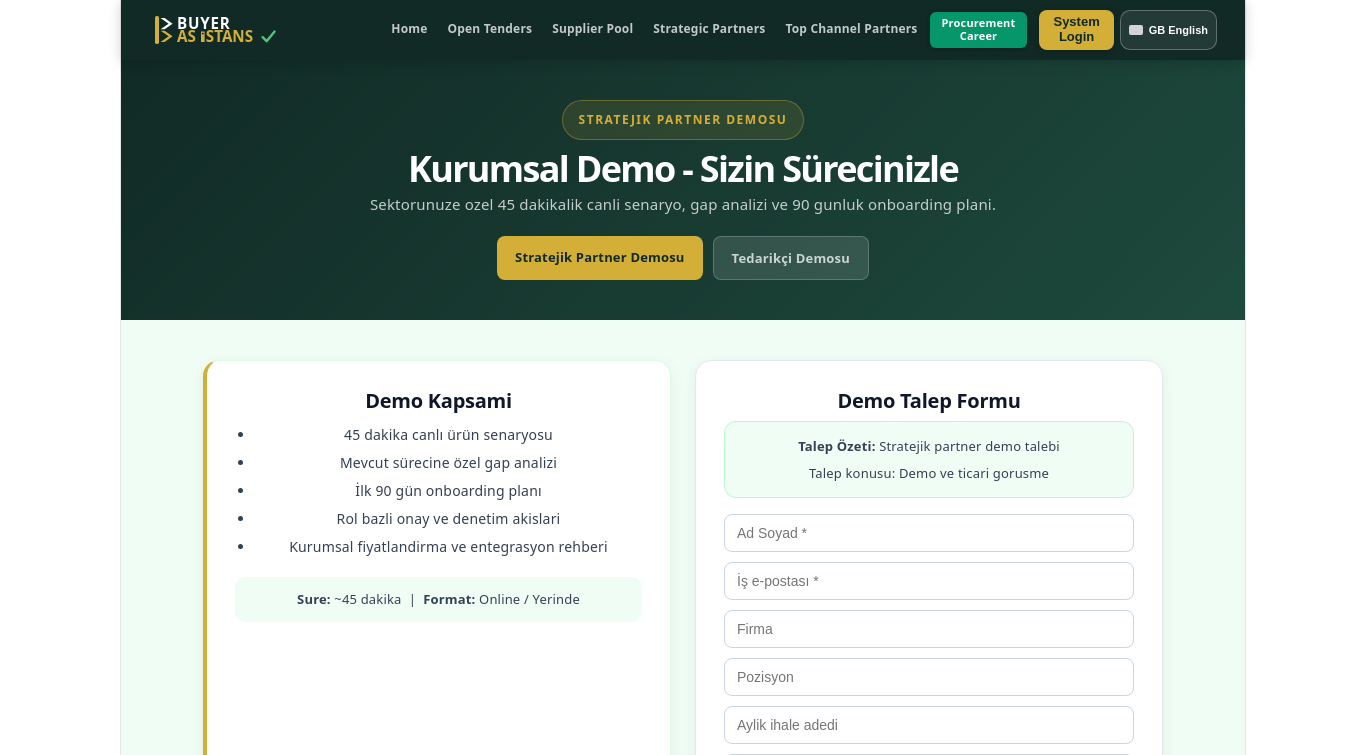
Test case: Public pages › demo talebi formu backend'e ticari talep kaydi gonderir
Type "Ayse Yilmaz" into the field with placeholder "Ad Soyad *" at point(929, 534), box x1=724 y1=514 x2=1134 y2=552
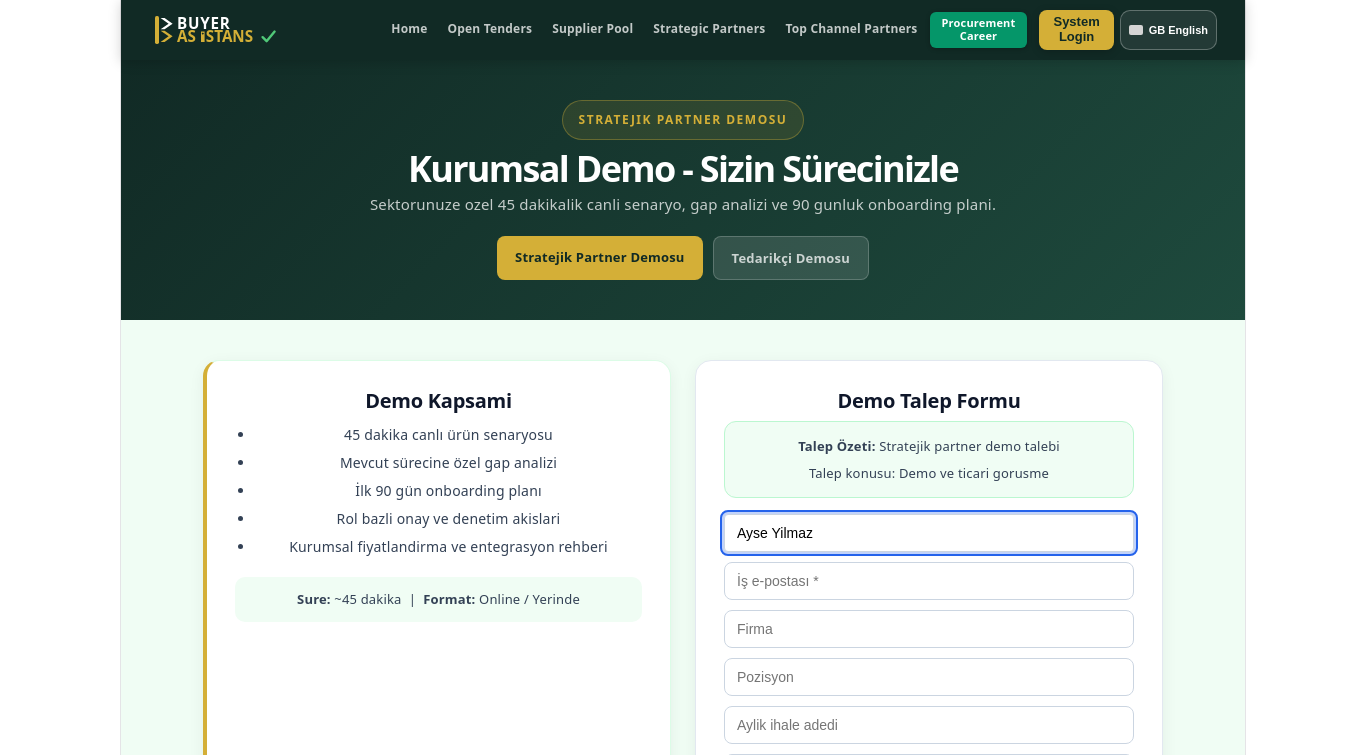
Type "ayse@test.com" into the field with placeholder "İş e-postası *" at point(929, 582), box x1=724 y1=562 x2=1134 y2=600
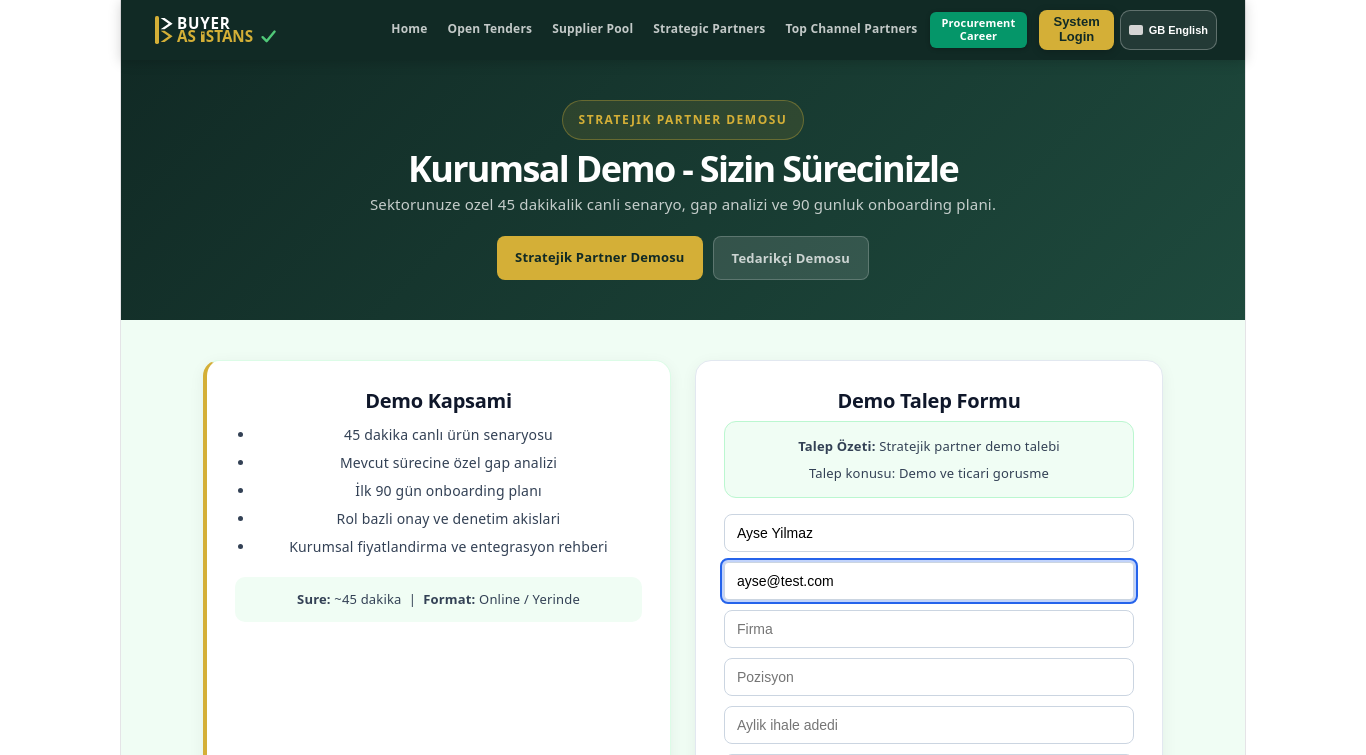
Type "Ornek A.S." into the field with placeholder "Firma" at point(929, 630), box x1=724 y1=610 x2=1134 y2=648
(page scrolled)
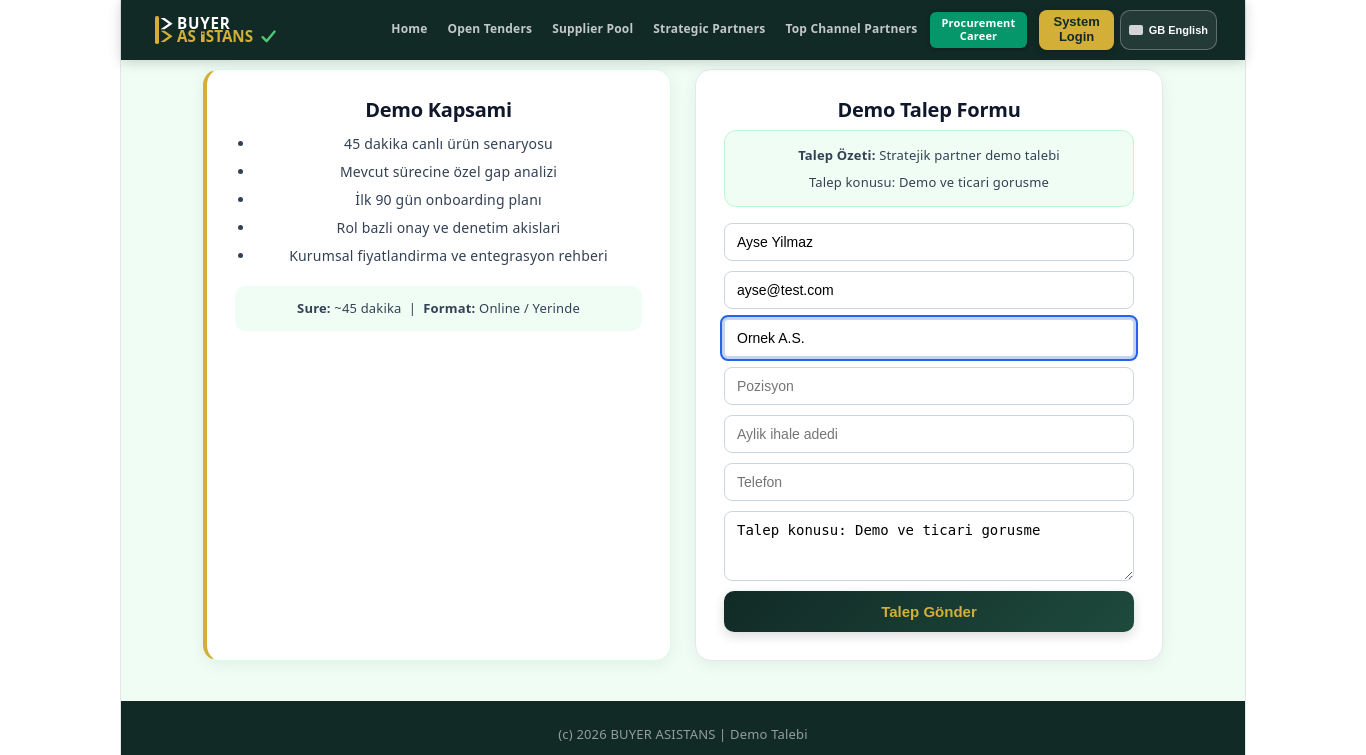
Type "05551234567" into the field with placeholder "Telefon" at point(929, 482), box x1=724 y1=464 x2=1134 y2=502
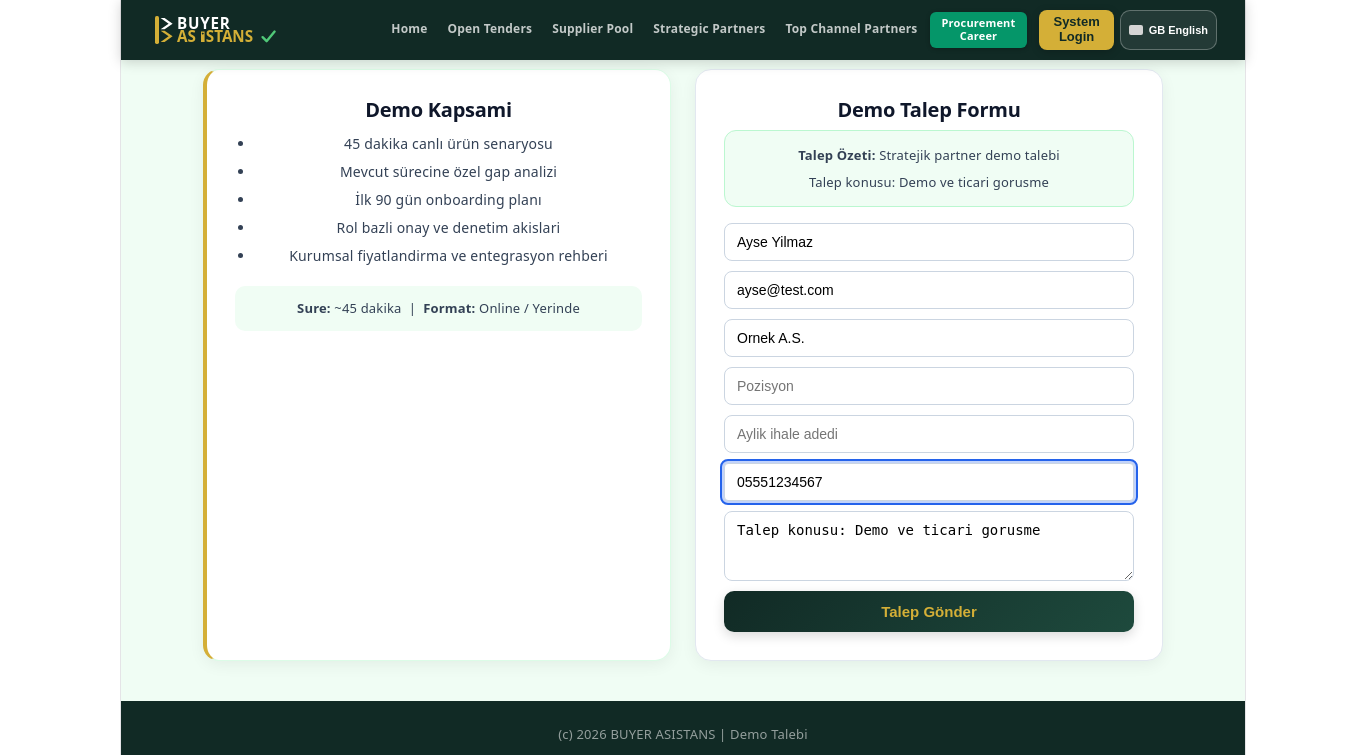
Type "Canli demo gormek istiyoruz." into the text box with placeholder "Notunuz" at point(929, 546), box x1=724 y1=512 x2=1134 y2=582
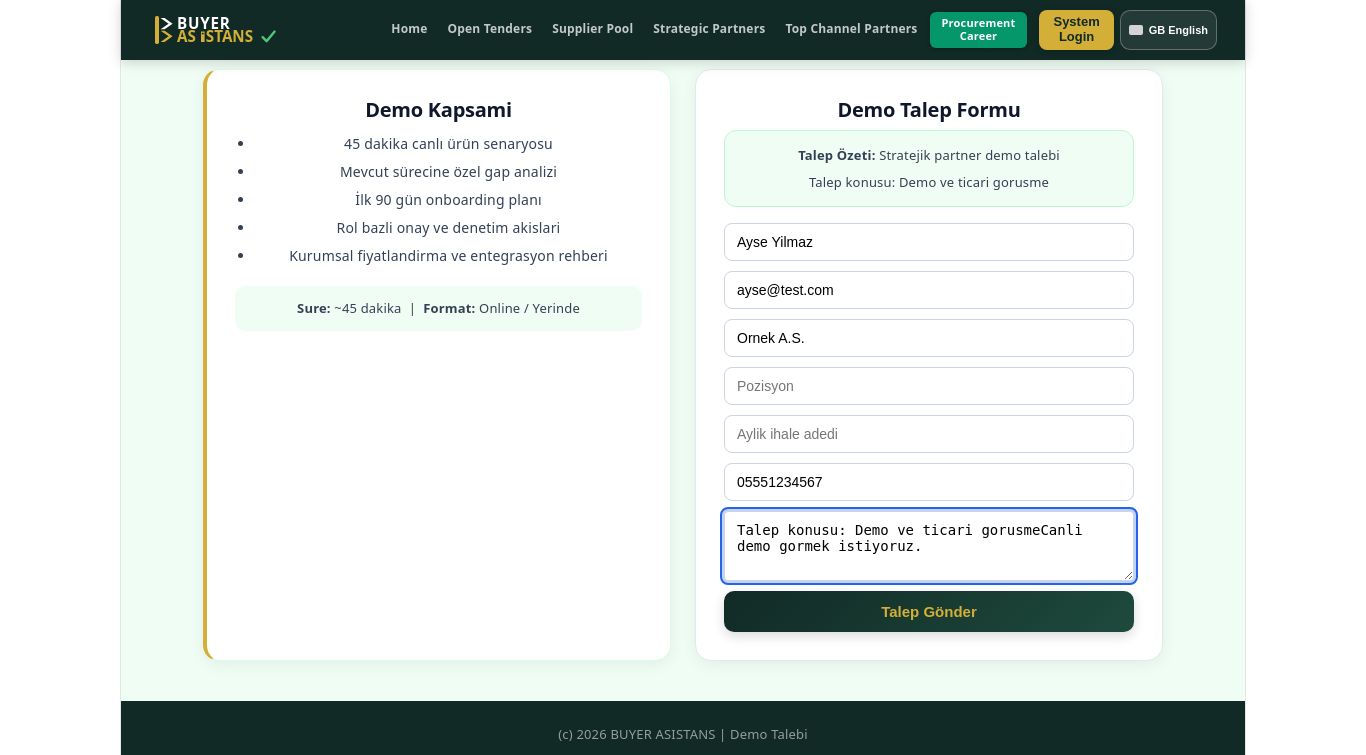
Click the submit button at point(929, 612), box x1=724 y1=592 x2=1134 y2=632
(page scrolled)
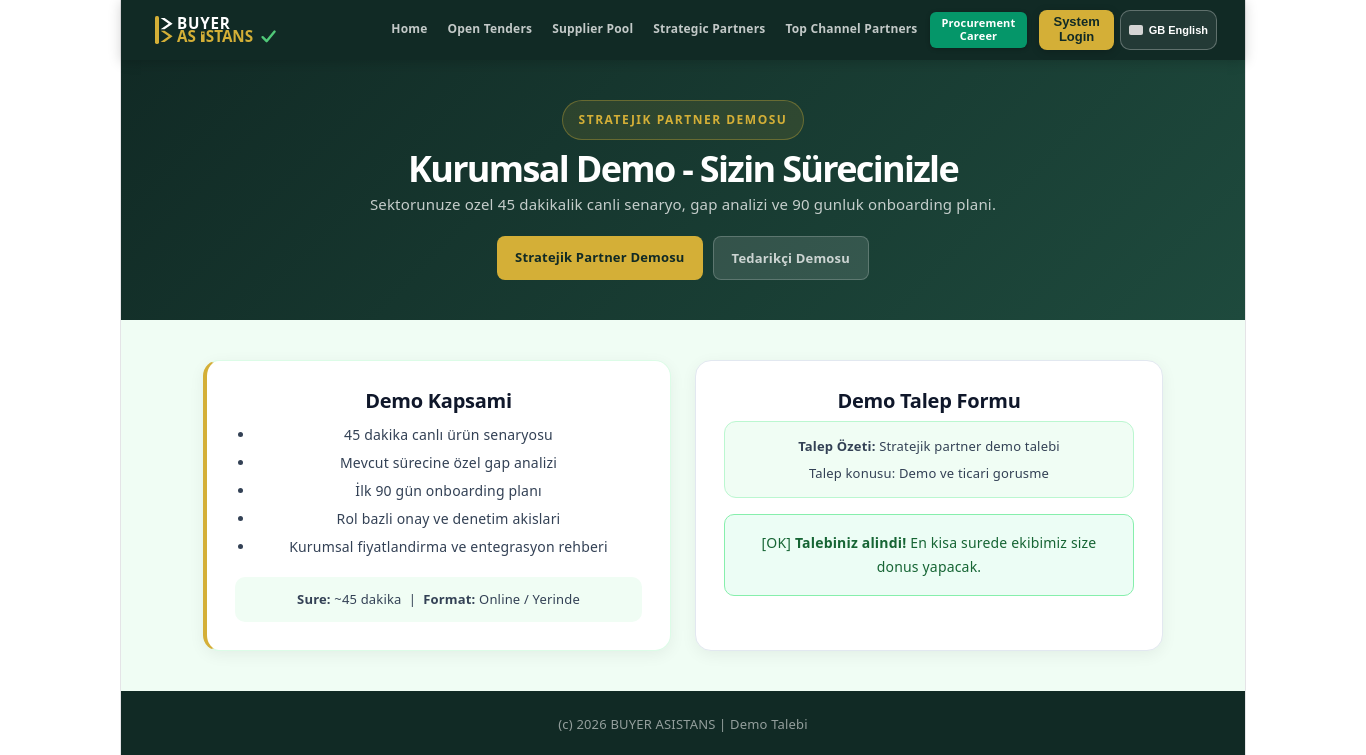
Expected: the text "Talebiniz alindi!" is shown, x1=795 y1=534 x2=906 y2=552
